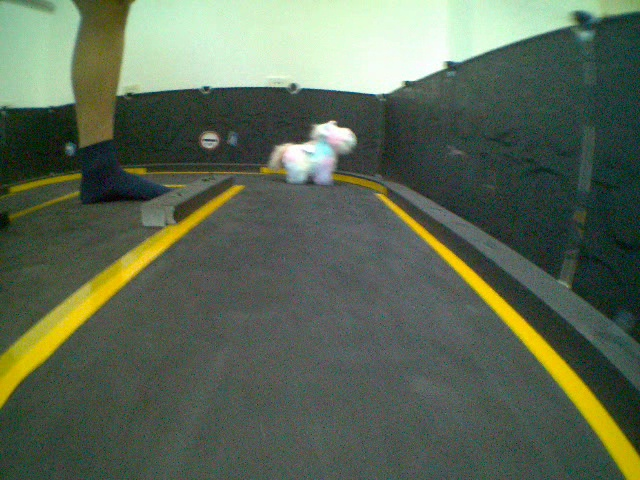unicorn: (264, 117, 354, 192)
